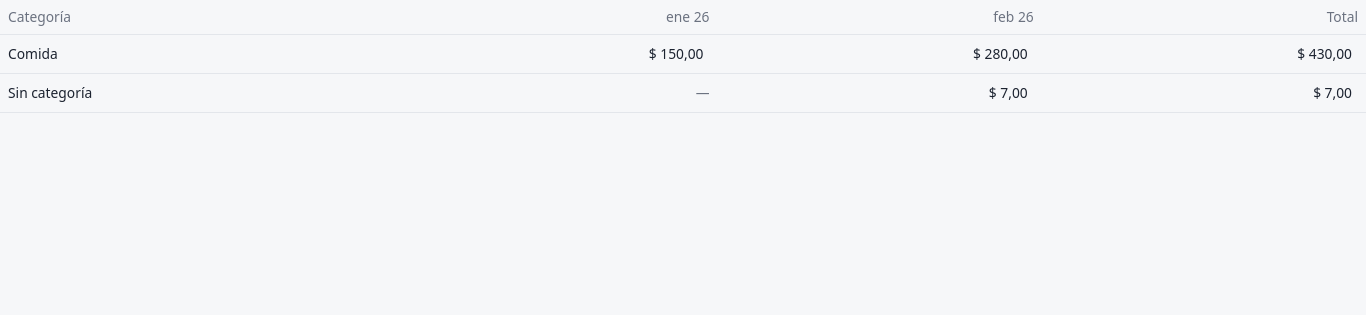
it: CategoryMonthTable › asks for uncategorized movements over the whole range from a Total cell
Click the 2nd button "$ 7,00" at {"x": 1333, "y": 93}, box 1307,81 -> 1358,105
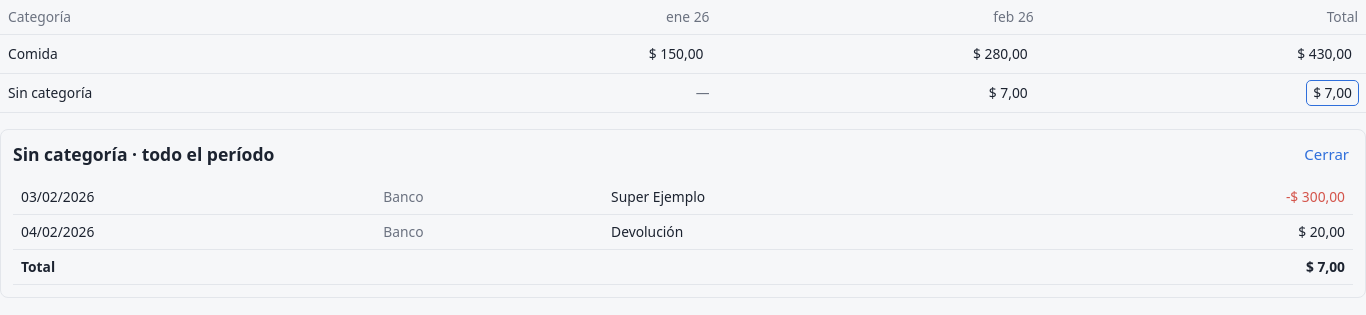
Expected: the heading "Sin categoría · todo el período" is shown, 13,142 -> 274,168
